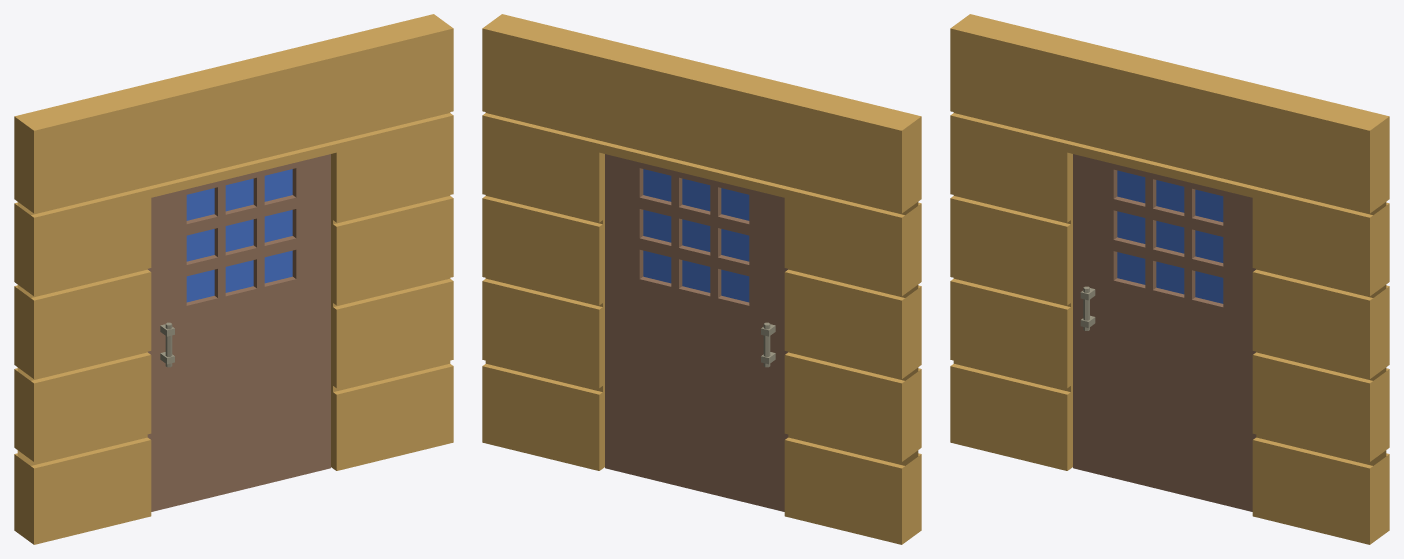
File: Door01_house5.fbx
3 renders of one model, left to right at view 1: azimuth 30°, elevation 25°; view 2: azimuth 150°, elevation 25°; view 3: azimuth 330°, elevation 25°, orthographic.
Parts seen in each view (by area): view 1: Door01_house05; view 2: Door01_house05; view 3: Door01_house05.
Part boxes in pixels (left/top/right/bottom): Door01_house05: left=14, top=14, right=453, bottom=544; Door01_house05: left=482, top=14, right=921, bottom=544; Door01_house05: left=950, top=14, right=1389, bottom=544.
Bounding box in the file's own units: 319 × 301 × 29.29.
